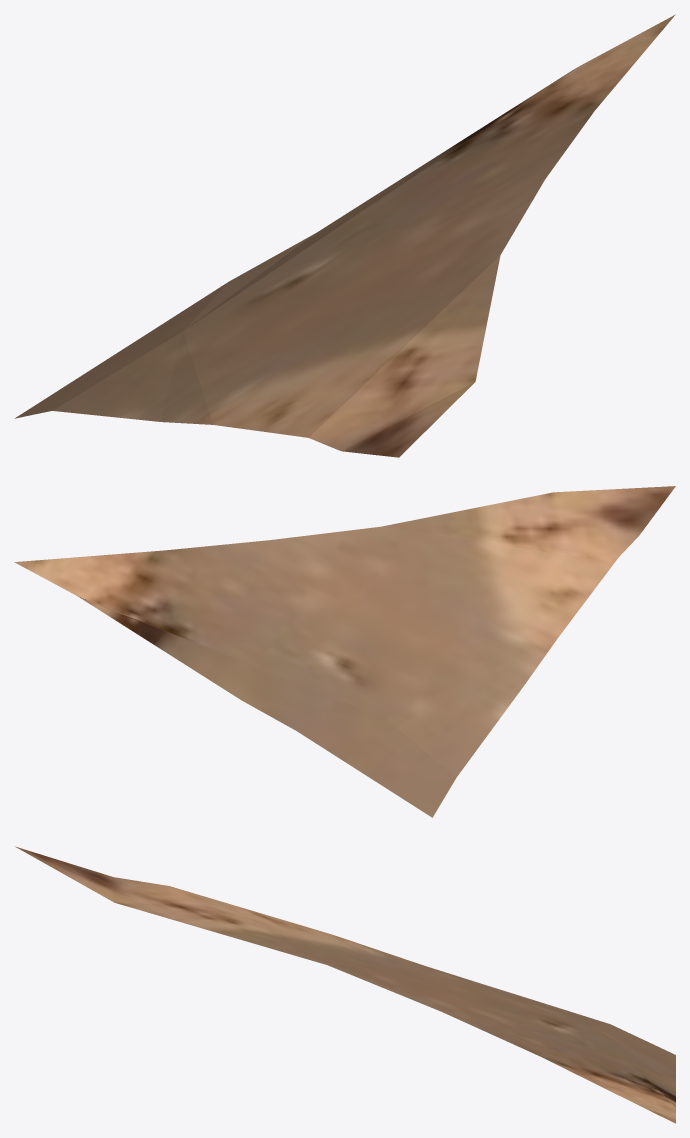
3 views of the same model, one above another, from view 1: azimuth 30°, elevation 25°; view 2: azimuth 150°, elevation 25°; view 3: azimuth 270°, elevation 25° (orthographic). The views are drawn at different scales.
Size of the model in its own units: 0.1497 by 0.0525 by 0.1509.
Materials: 1 (1 with a texture image).
